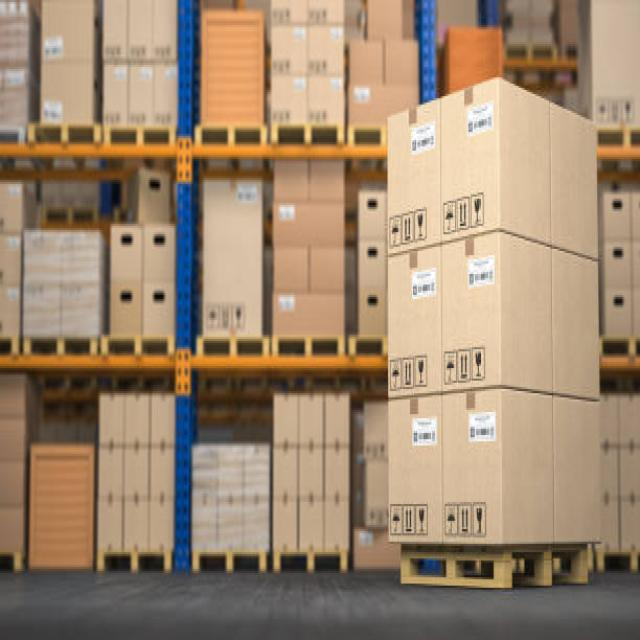Wooden-Pallets: (394, 539, 592, 604), (25, 114, 105, 152), (271, 545, 353, 581), (192, 541, 267, 578), (108, 115, 172, 158), (22, 329, 96, 365), (197, 327, 270, 362), (94, 545, 172, 577), (100, 324, 173, 356), (271, 121, 347, 149), (194, 119, 266, 145), (271, 332, 347, 354)
